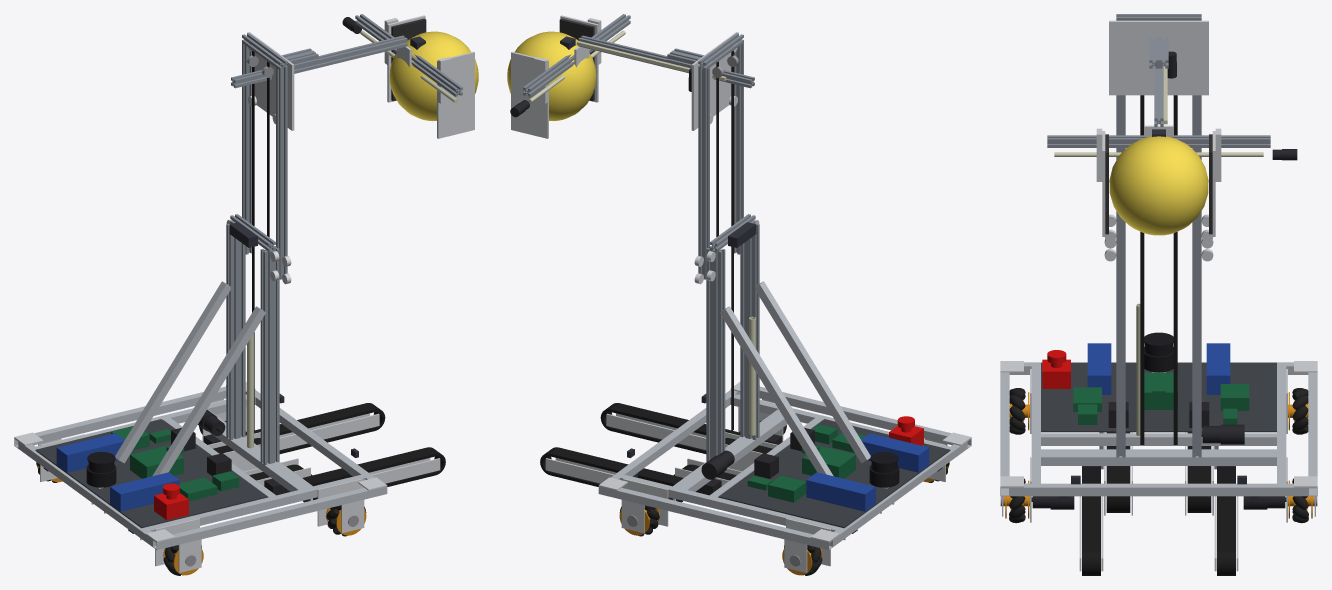
The model's file is BR-C_terjulur.glb.
3 renders of one model, left to right at view 1: azimuth 30°, elevation 25°; view 2: azimuth 150°, elevation 25°; view 3: azimuth 270°, elevation 25°, orthographic. The views are drawn at different scales.
Parts seen in each view (by area): view 1: dek_elektronik, tiang_lift_t0_2, tiang_lift_t0, Mustika (peraga), dek_samping_kanan, penguat_tiang, penguat_tiang_2, tiang_lift_t1_2, jari_jepit_2, dek_samping_kiri, rel_dalam_kanan, boom_geser (+24 smaller); view 2: dek_elektronik, tiang_lift_t0, Mustika (peraga), tiang_lift_t0_2, dek_samping_kiri, penguat_tiang_2, penguat_tiang, tiang_lift_t1, jari_jepit, rel_dalam_kiri, baterai_6S, dek_samping_kanan (+26 smaller); view 3: dek_elektronik, Mustika (peraga), carriage, dek_depan, palang_tiang, palang_3, rel_jepit, tiang_lift_t0, tiang_lift_t0_2, flipper_kiri, flipper_kanan, sabuk_lift (+32 smaller).
Boxes of the visible parts, box(x1,y1,x2,y2) form: dek_elektronik: box(35, 419, 267, 528); tiang_lift_t0_2: box(260, 246, 279, 465); tiang_lift_t0: box(226, 224, 245, 439); Mustika (peraga): box(389, 31, 478, 121); dek_samping_kanan: box(152, 486, 387, 549); penguat_tiang: box(115, 281, 230, 463); penguat_tiang_2: box(152, 306, 266, 476); tiang_lift_t1_2: box(276, 68, 287, 279); jari_jepit_2: box(437, 51, 474, 138); dek_samping_kiri: box(14, 386, 226, 448); rel_dalam_kanan: box(146, 474, 365, 531); boom_geser: box(231, 35, 407, 88); dek_elektronik: box(718, 419, 950, 528); tiang_lift_t0: box(706, 246, 725, 461); Mustika (peraga): box(507, 31, 596, 121); tiang_lift_t0_2: box(740, 224, 759, 439); dek_samping_kiri: box(598, 486, 833, 549); penguat_tiang_2: box(754, 281, 870, 463); penguat_tiang: box(719, 306, 833, 476); tiang_lift_t1: box(698, 68, 709, 279); jari_jepit: box(511, 51, 548, 138); rel_dalam_kiri: box(620, 474, 839, 531); baterai_6S: box(806, 472, 875, 511); dek_samping_kanan: box(759, 386, 971, 448); dek_elektronik: box(1041, 362, 1276, 432); Mustika (peraga): box(1109, 136, 1208, 235); carriage: box(1109, 20, 1208, 95); dek_depan: box(1009, 483, 1308, 496); palang_tiang: box(1041, 449, 1276, 465); palang_3: box(1041, 433, 1276, 445); rel_jepit: box(1047, 135, 1270, 147); tiang_lift_t0: box(1192, 258, 1201, 457); tiang_lift_t0_2: box(1116, 258, 1125, 457); flipper_kiri: box(1217, 483, 1235, 575); flipper_kanan: box(1082, 483, 1100, 575); sabuk_lift: box(1173, 95, 1177, 444).
Size of the model in its own units: 1048 by 1150 by 668.
